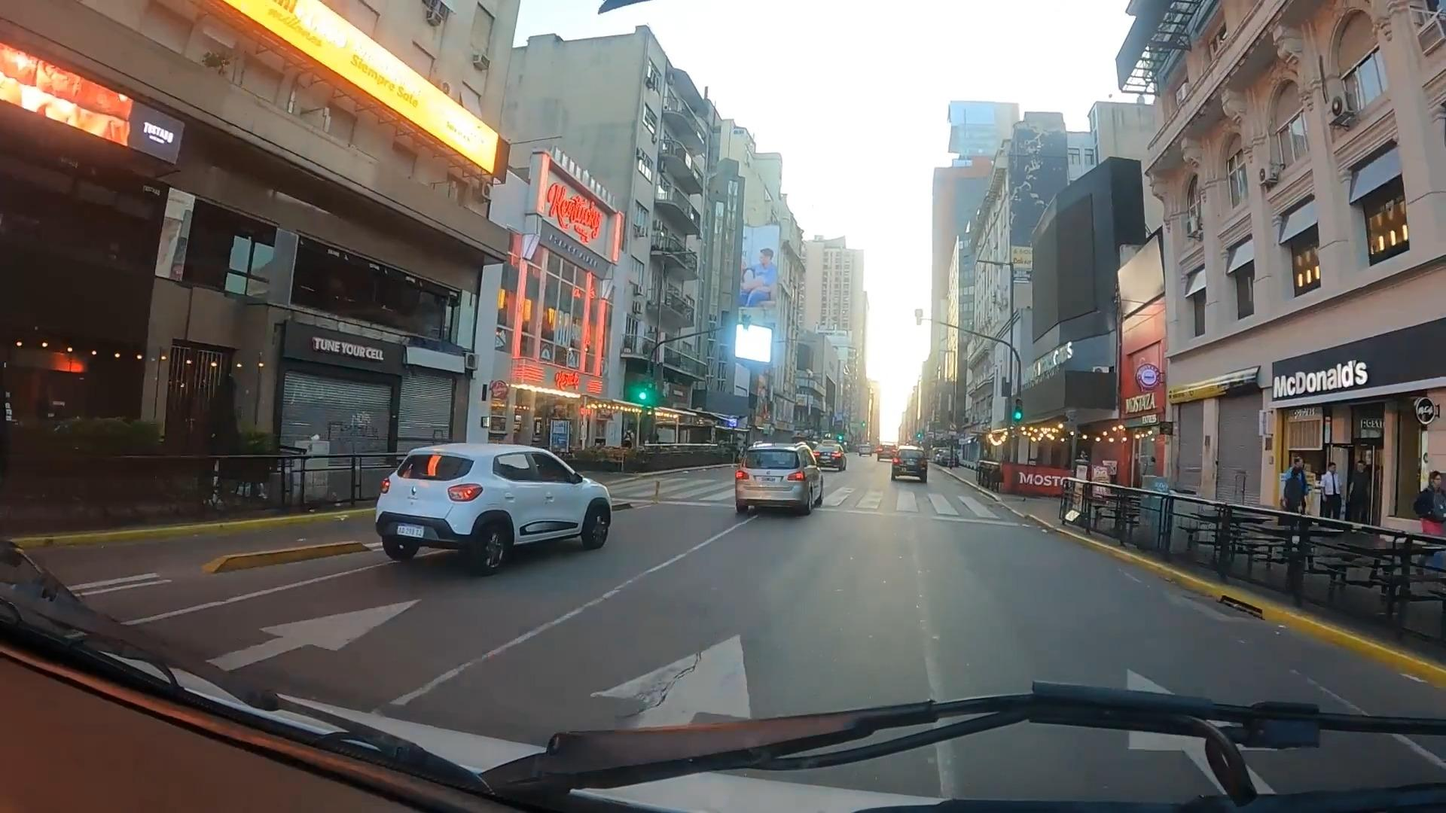dry: (14, 446, 1444, 729)
